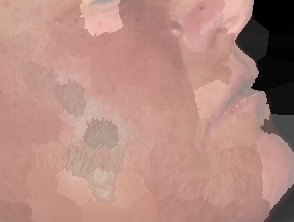SJS-TEN: (7, 129, 292, 222)
